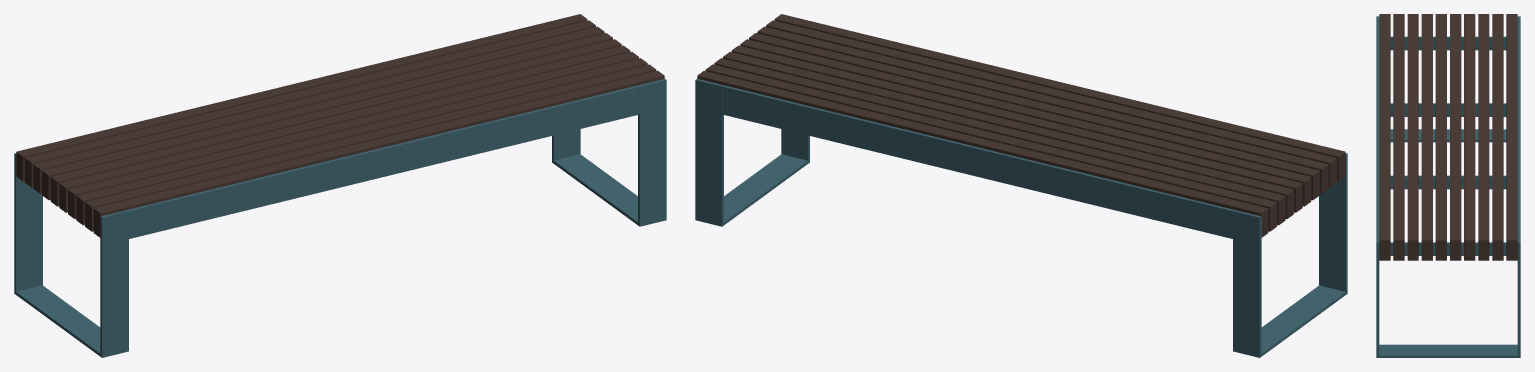
3 renders of one model, left to right at view 1: azimuth 30°, elevation 25°; view 2: azimuth 150°, elevation 25°; view 3: azimuth 270°, elevation 25°, orthographic. The views are drawn at different scales.
Parts seen in each view (by area): view 1: K4_1900_frame_2, K4_1900_frame_0, K4_1900_frame_1, K4_1900_boards_0, K4_1900_boards_8, K4_1900_boards_2, K4_1900_boards_3, K4_1900_boards_1, K4_1900_boards_5, K4_1900_boards_9, K4_1900_boards_4, K4_1900_boards_7 (+1 smaller); view 2: K4_1900_frame_3, K4_1900_frame_0, K4_1900_frame_1, K4_1900_boards_4, K4_1900_boards_7, K4_1900_boards_3, K4_1900_boards_2, K4_1900_boards_1, K4_1900_boards_5, K4_1900_boards_6, K4_1900_boards_0, K4_1900_boards_8 (+1 smaller); view 3: K4_1900_boards_0, K4_1900_boards_1, K4_1900_boards_2, K4_1900_boards_3, K4_1900_boards_4, K4_1900_boards_5, K4_1900_boards_6, K4_1900_boards_9, K4_1900_boards_7, K4_1900_boards_8, K4_1900_frame_1, K4_1900_frame_2 (+6 smaller).
Boxes of the visible parts, box(x1,y1,x2,y2) form: K4_1900_frame_2: box(128, 85, 639, 238); K4_1900_frame_0: box(14, 153, 128, 357); K4_1900_frame_1: box(552, 79, 666, 226); K4_1900_boards_0: box(93, 70, 664, 237); K4_1900_boards_8: box(50, 39, 621, 206); K4_1900_boards_2: box(24, 20, 595, 187); K4_1900_boards_3: box(85, 64, 656, 231); K4_1900_boards_1: box(33, 26, 604, 193); K4_1900_boards_5: box(76, 58, 647, 225); K4_1900_boards_9: box(42, 33, 612, 200); K4_1900_boards_4: box(16, 14, 587, 181); K4_1900_boards_7: box(59, 45, 630, 212); K4_1900_frame_3: box(722, 85, 1233, 238); K4_1900_frame_0: box(1233, 153, 1347, 357); K4_1900_frame_1: box(695, 79, 809, 226); K4_1900_boards_4: box(697, 70, 1268, 237); K4_1900_boards_7: box(740, 39, 1311, 206); K4_1900_boards_3: box(766, 20, 1337, 187); K4_1900_boards_2: box(705, 64, 1276, 231); K4_1900_boards_1: box(714, 58, 1285, 225); K4_1900_boards_5: box(757, 26, 1328, 193); K4_1900_boards_6: box(749, 33, 1319, 200); K4_1900_boards_0: box(774, 14, 1345, 181); K4_1900_boards_8: box(731, 45, 1302, 212); K4_1900_boards_0: box(1379, 14, 1390, 260); K4_1900_boards_1: box(1478, 14, 1489, 260); K4_1900_boards_2: box(1492, 14, 1503, 260); K4_1900_boards_3: box(1393, 14, 1404, 260); K4_1900_boards_4: box(1506, 14, 1517, 260); K4_1900_boards_5: box(1407, 14, 1418, 260); K4_1900_boards_6: box(1421, 14, 1432, 260); K4_1900_boards_9: box(1464, 14, 1475, 260); K4_1900_boards_7: box(1435, 14, 1446, 260); K4_1900_boards_8: box(1450, 14, 1461, 260); K4_1900_frame_1: box(1376, 232, 1520, 357); K4_1900_frame_2: box(1376, 27, 1379, 231).
Size of the model in its own units: 1.89 by 0.46 by 0.51.
